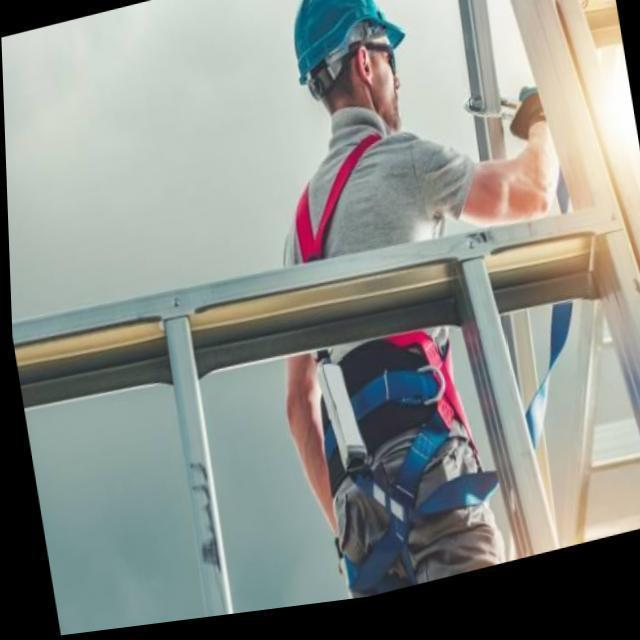Harness: (324, 392, 501, 596), (296, 133, 382, 262), (350, 368, 441, 426)
